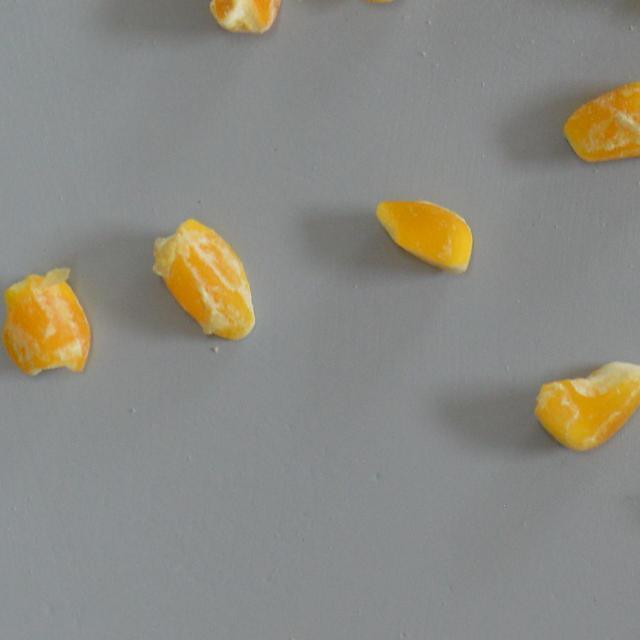estandar: (373, 195, 475, 274)
pelicula: (150, 216, 256, 342), (549, 340, 640, 467), (0, 265, 91, 376), (580, 56, 640, 183), (194, 0, 288, 31)
